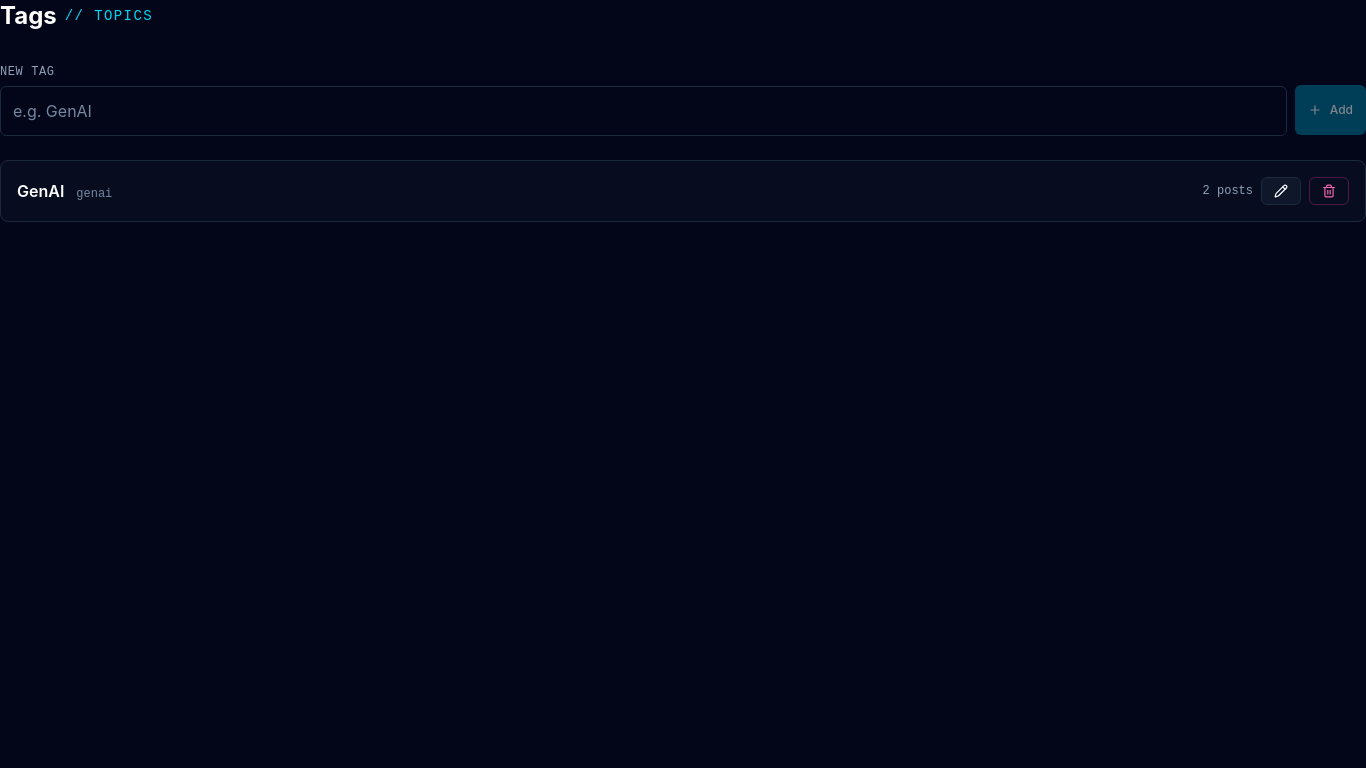
it: BLG-34 TagManager › deleting a tag in use asks, then force-deletes
The image size is (1366, 768).
Later steps or results of the test are not shown.
Click the button named "Delete GenAI" at (1329, 191), box [1309,177,1349,205]
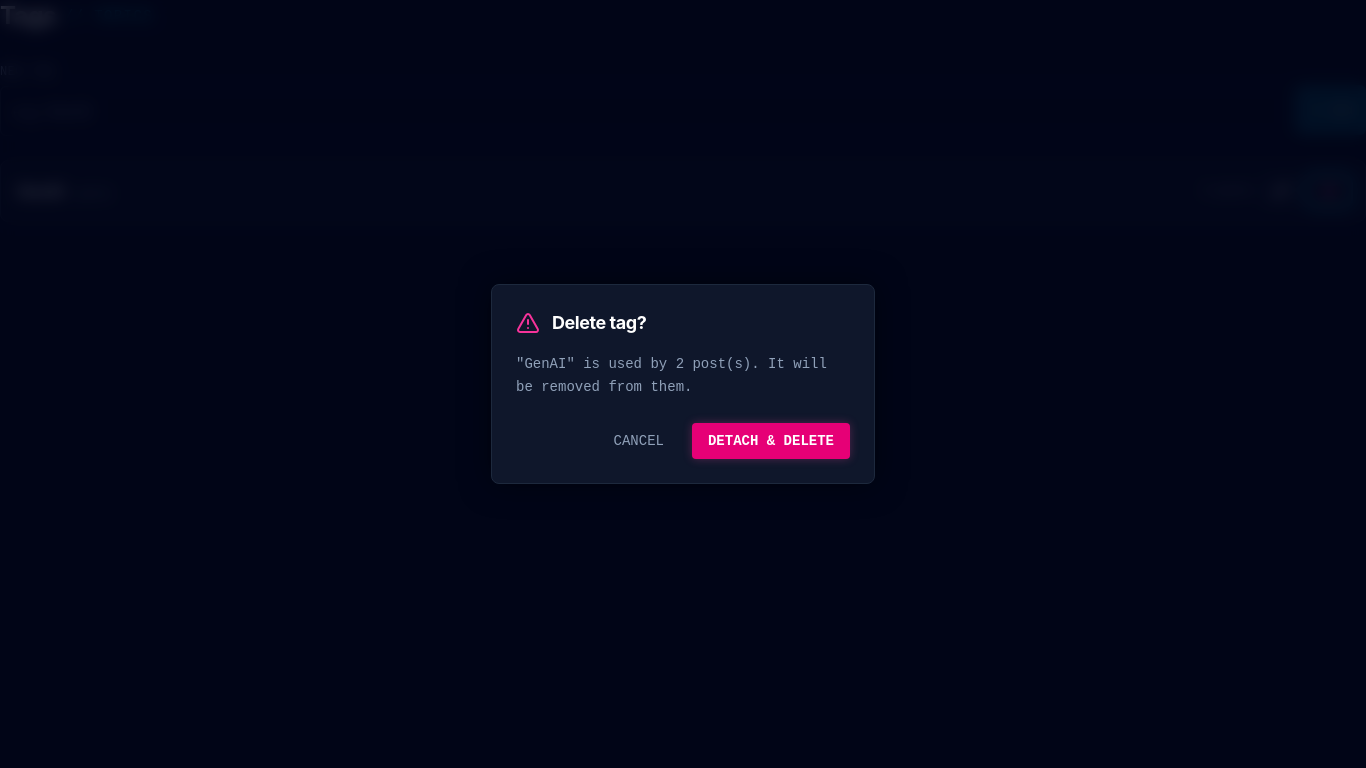
Check: the text "\"GenAI\" is used by 2 post(s). It will be removed from them." is shown, box [516,353,850,399]
